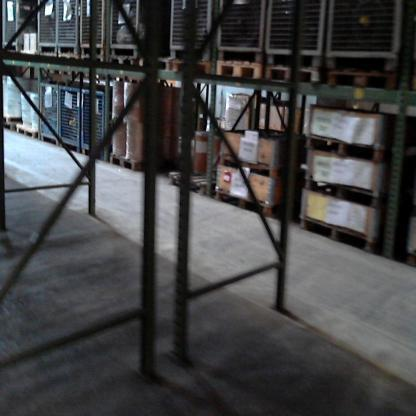pallets: (168, 54, 415, 96), (5, 120, 145, 176), (300, 211, 383, 257), (302, 130, 392, 168), (301, 172, 384, 206), (212, 188, 278, 216)
